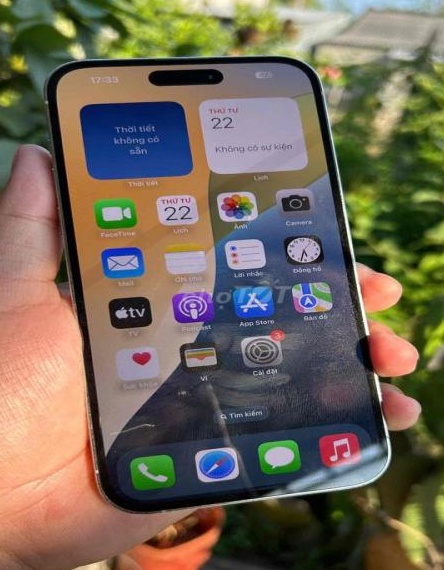scratch: (74, 374, 114, 500)
